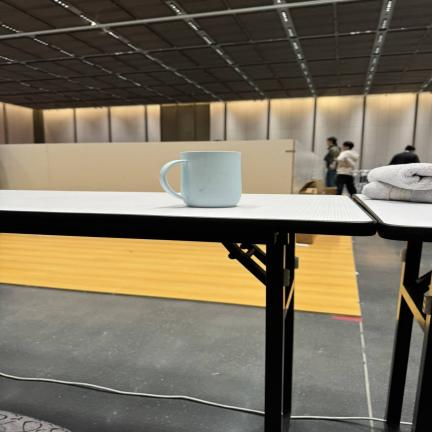cup: (160, 151, 241, 208)
